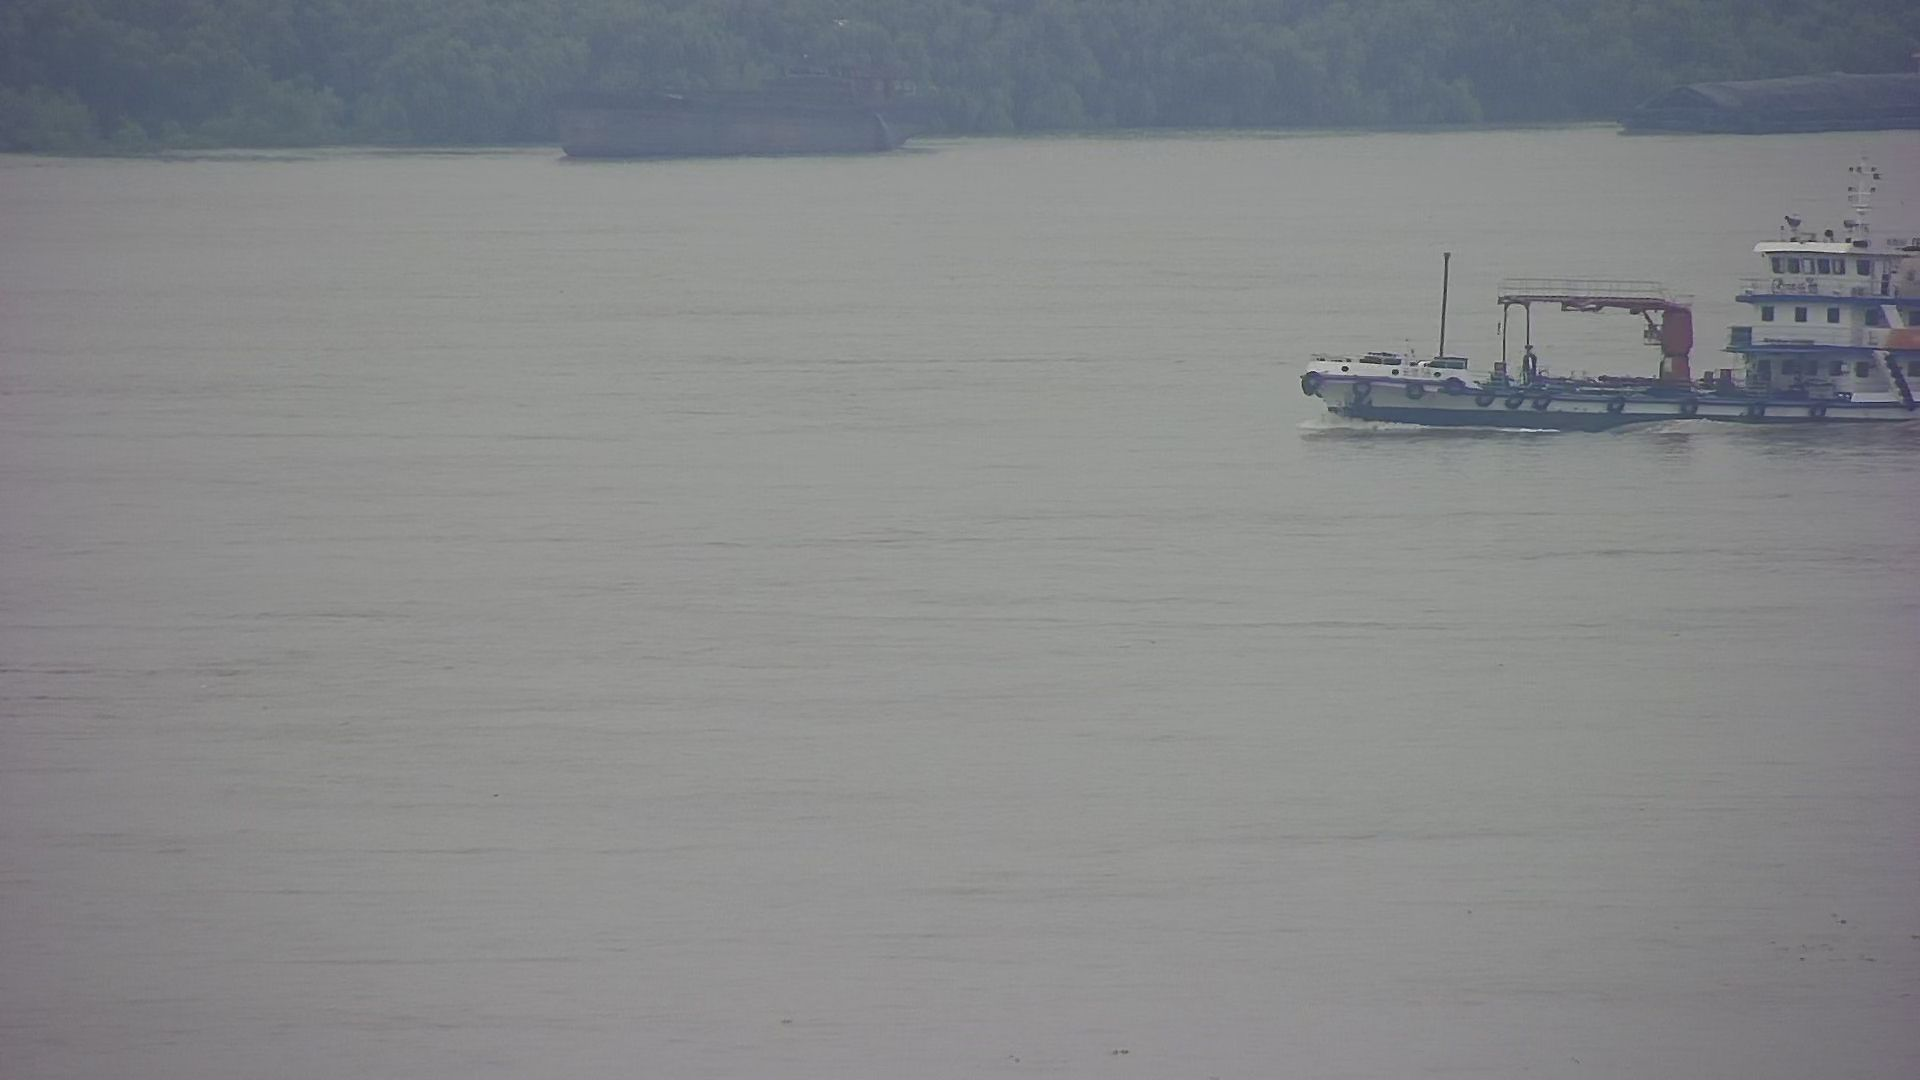ship: (1292, 207, 1920, 440), (533, 12, 953, 200), (1605, 55, 1919, 146)
